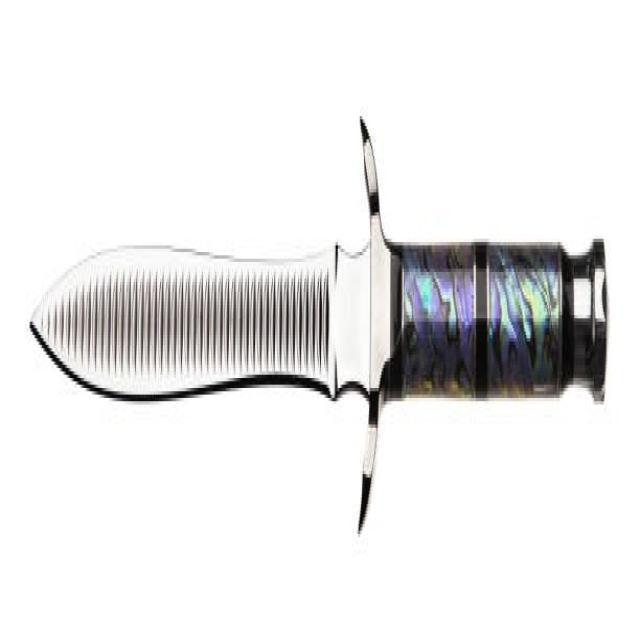knife: (26, 92, 619, 603)
